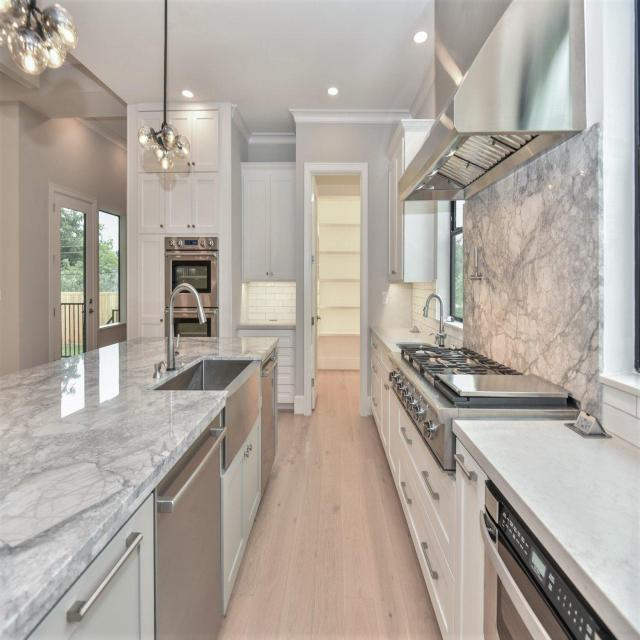dishwasher: (155, 404, 226, 640)
